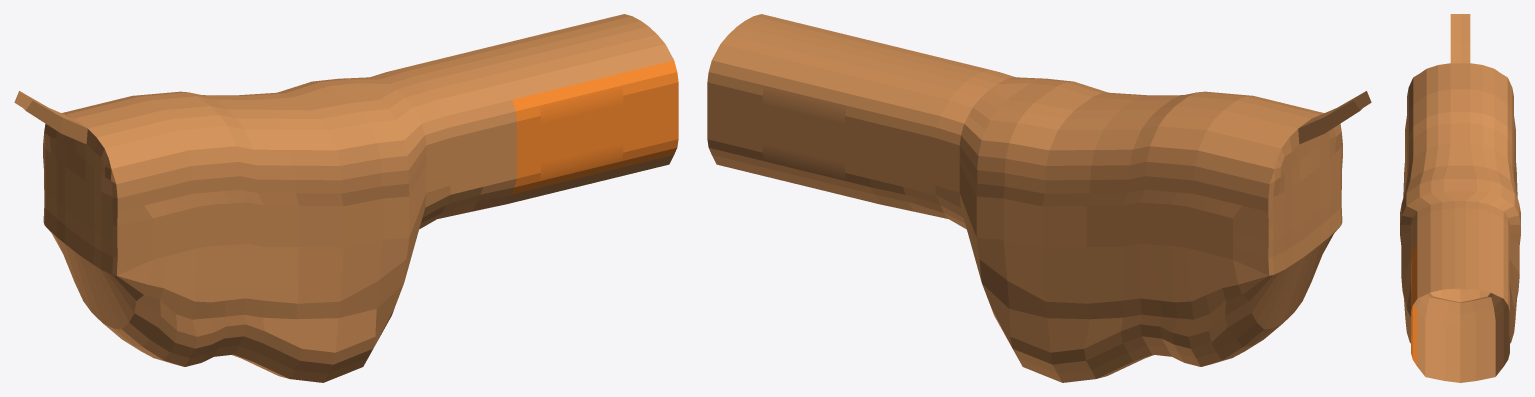
File: Ear Canal Final.FBX
The picture shows the model from 3 angles, left to right: view 1: azimuth 30°, elevation 25°; view 2: azimuth 150°, elevation 25°; view 3: azimuth 270°, elevation 25°; orthographic projection. The views are drawn at different scales.
Parts seen in each view (by area): view 1: Drum cover003; view 2: Drum cover003; view 3: Drum cover003.
Boxes of the visible parts, x1,y1,x2,y2 form: Drum cover003: [14, 14, 678, 382]; Drum cover003: [707, 14, 1371, 382]; Drum cover003: [1400, 14, 1520, 382].
Size of the model in its own units: 70.19 by 36.81 by 16.34.
Materials: 2 (2 with a texture image).
